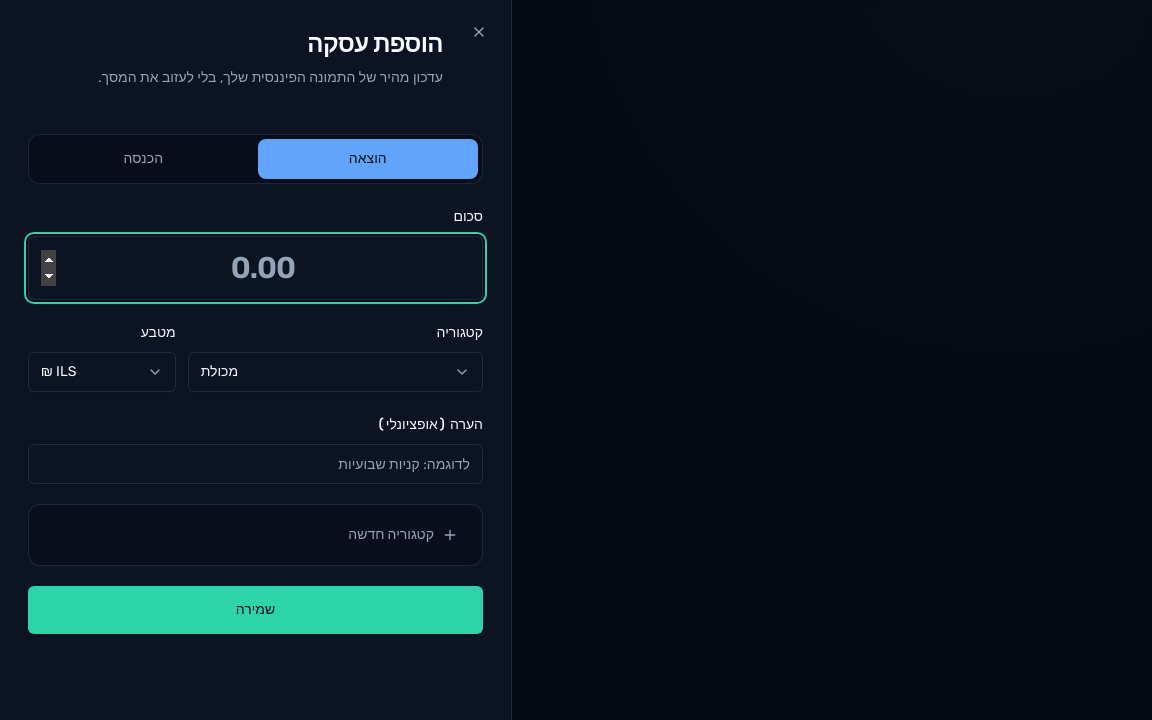
Test: keeps entered values and exposes the error when submission fails
The image size is (1152, 720).
In the number field labelled "סכום": (256, 268) [28,236,483,300], type "48"
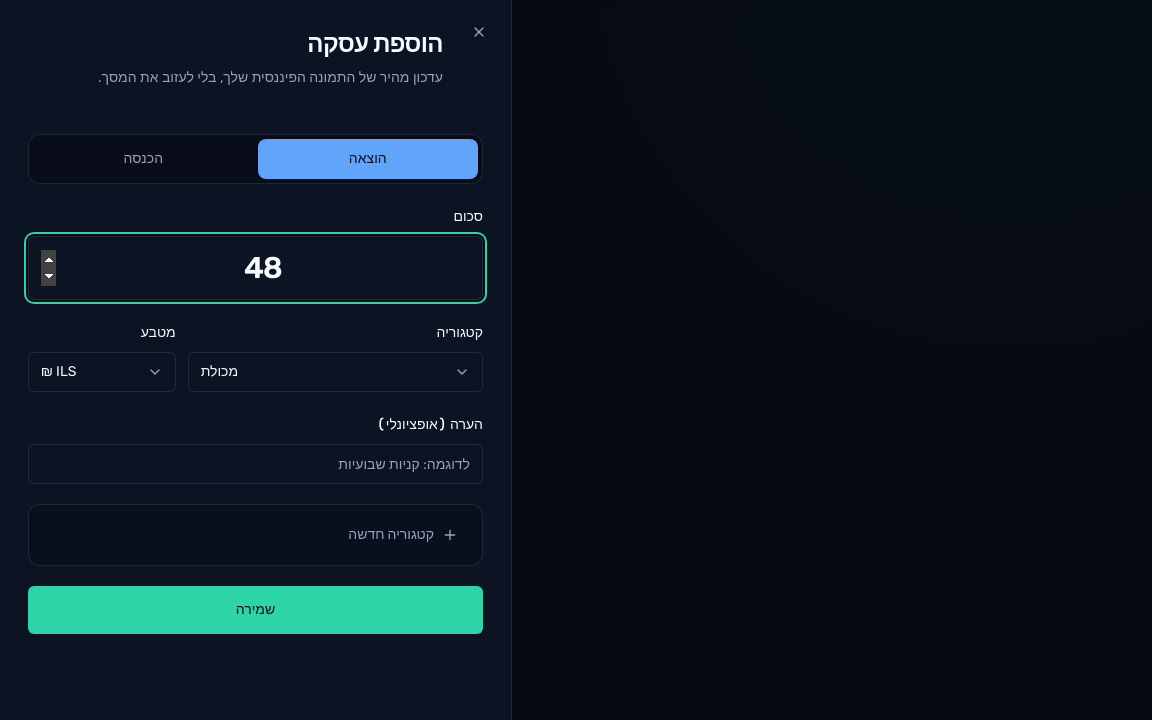
In the field labelled "הערה (אופציונלי)": (256, 464) [28,444,483,484], type "קפה"
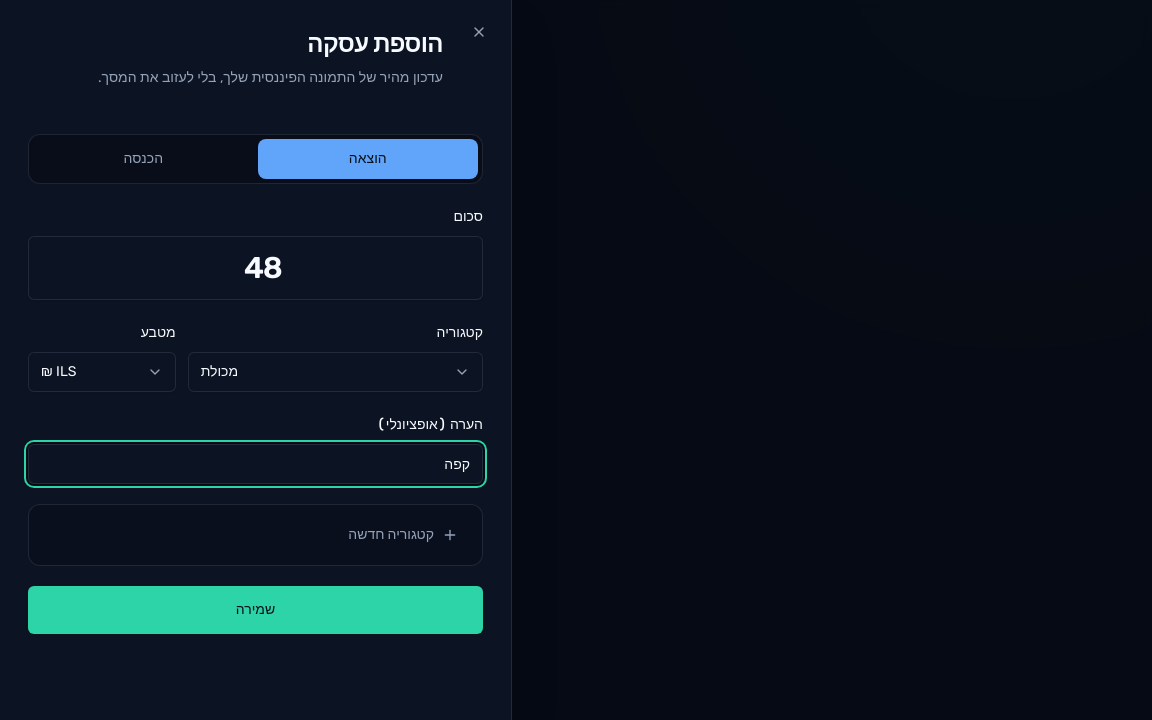
Click the button "שמירה": (256, 610) [28,586,483,634]
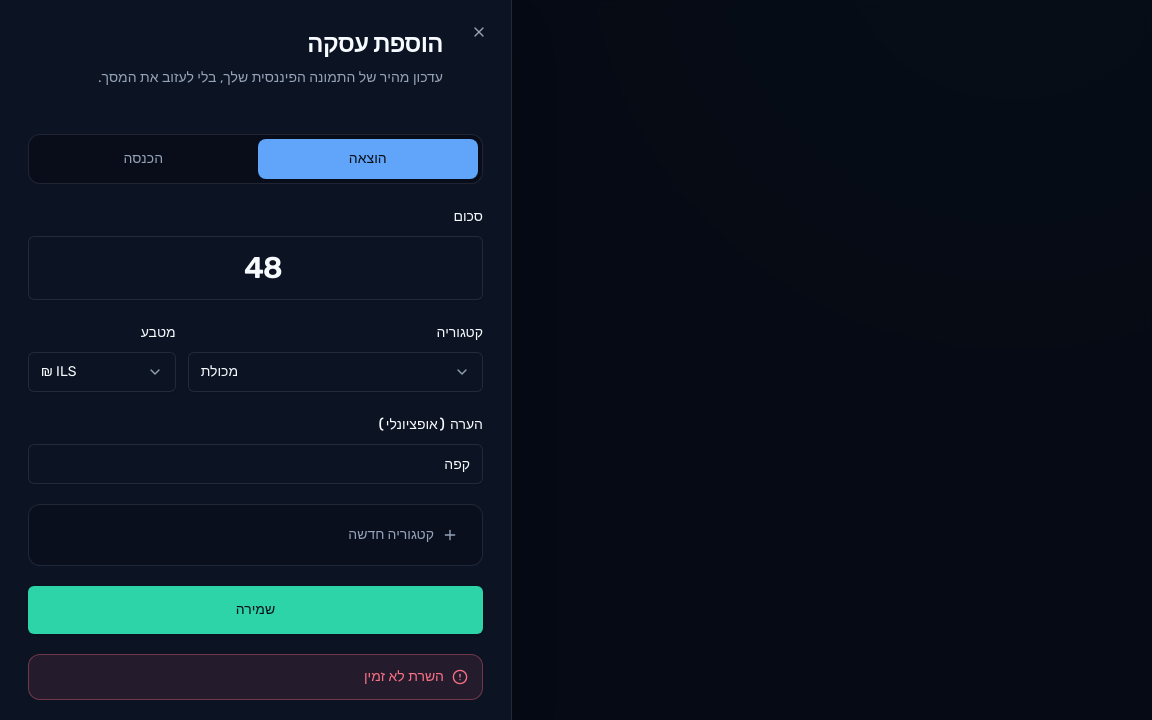
Expected: the message reads "השרת לא זמין", [364,668,444,685]
